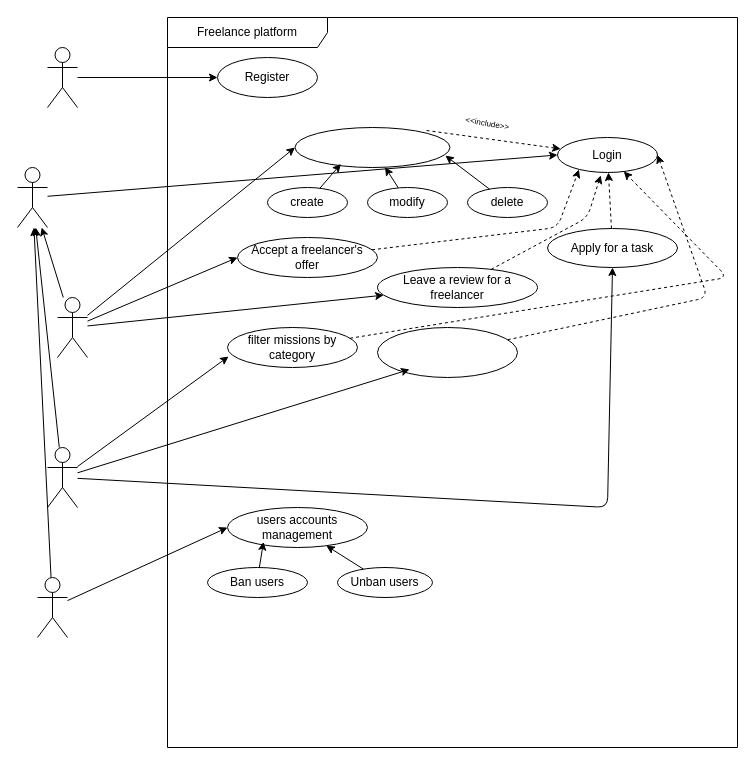
This 755x765 diagram has some shape labels left out. Each missing label, with the centre of its shape:
"Admin" belongs at point (52, 607).
"Client" belongs at point (72, 327).
"Freelancer" belongs at point (62, 477).
"Guest" belongs at point (62, 77).
"search missions" belongs at point (447, 352).
"Tasks Management" belongs at point (372, 147).
"User" belongs at point (32, 197).
